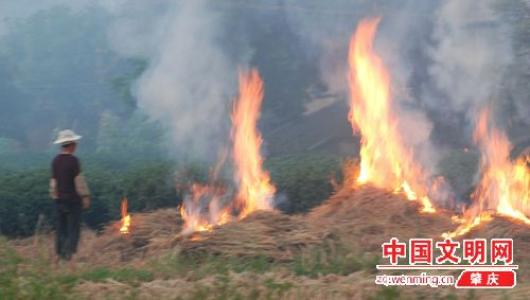fire: (199, 76, 283, 223)
fire1: (342, 26, 416, 198)
fire2: (460, 114, 530, 229)
smoke: (135, 11, 195, 121)
smoke1: (438, 11, 508, 100)
